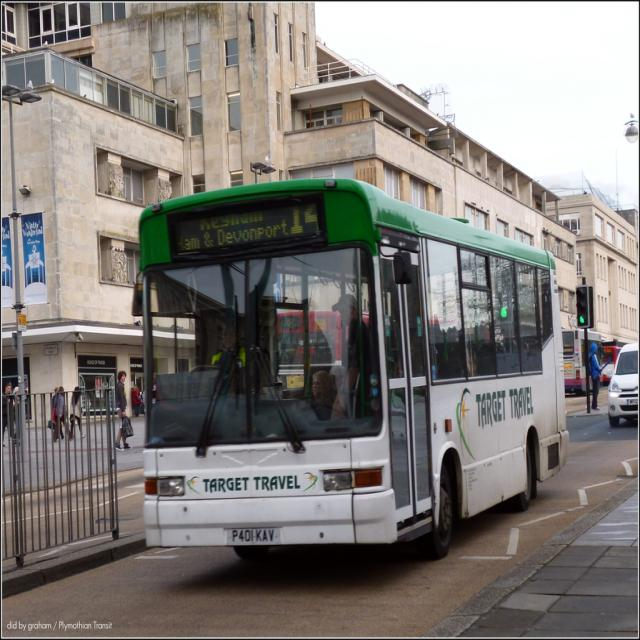Buses: (130, 176, 574, 576)
Passenger Car: (605, 342, 640, 430)
